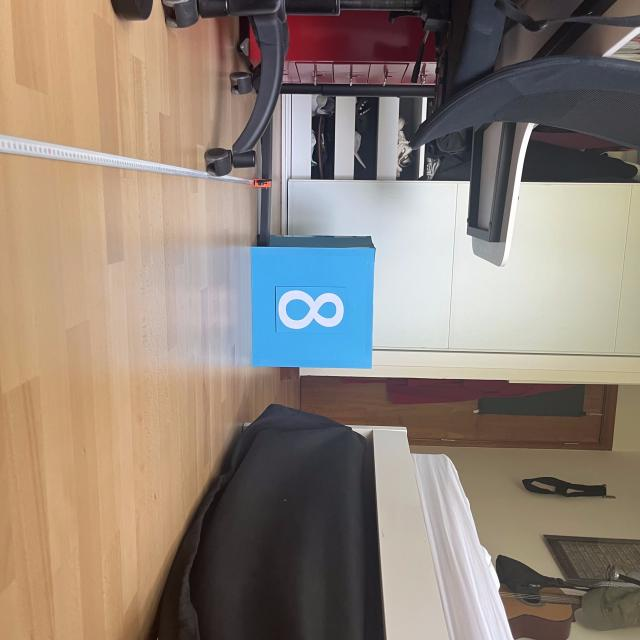box: (245, 233, 379, 371)
